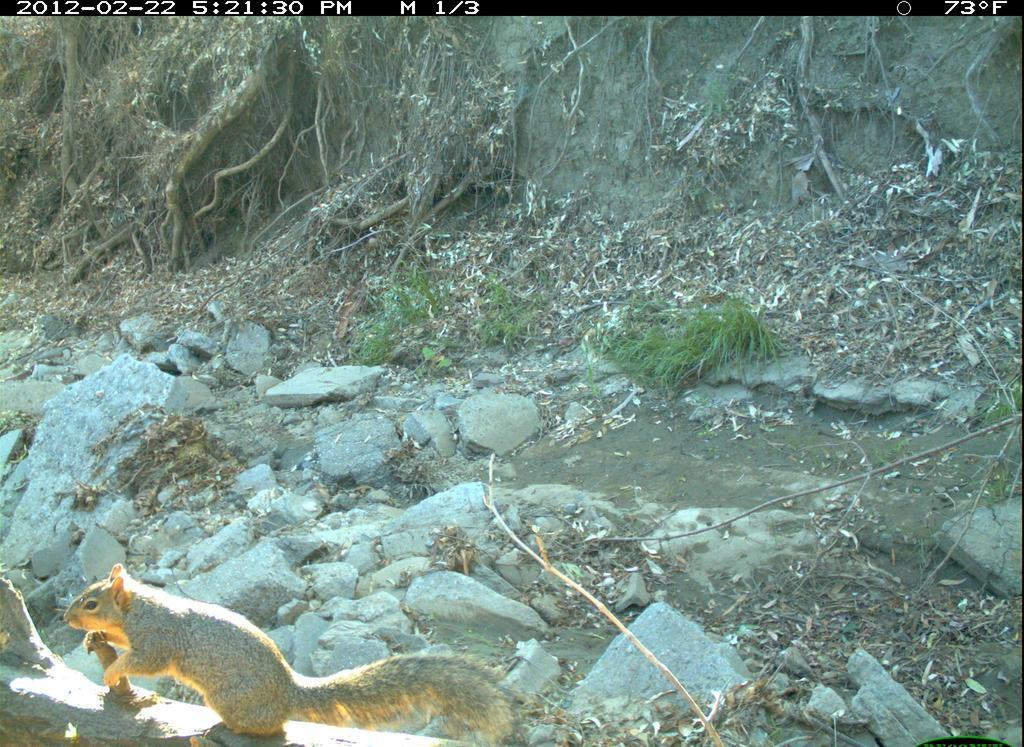squirrel: (63, 561, 520, 740)
